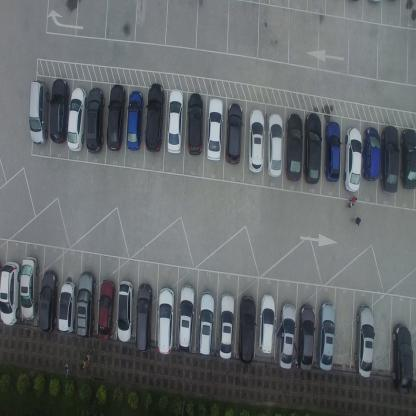car: (392, 323, 414, 396), (354, 304, 375, 379), (144, 82, 165, 153), (379, 125, 400, 194), (28, 78, 49, 146), (276, 301, 297, 369), (76, 270, 96, 340), (316, 302, 336, 372), (85, 87, 105, 155), (0, 259, 20, 326), (106, 84, 126, 151), (303, 112, 321, 186), (237, 294, 256, 364), (38, 268, 58, 334), (66, 86, 86, 152), (50, 78, 70, 144), (343, 127, 362, 194), (297, 304, 316, 371), (217, 291, 235, 361), (178, 284, 196, 354), (157, 287, 175, 357), (285, 113, 303, 182), (135, 283, 152, 355), (198, 291, 216, 358), (20, 254, 38, 321), (225, 102, 243, 166), (265, 112, 282, 179), (116, 280, 134, 343), (97, 278, 115, 341), (247, 108, 264, 174), (257, 292, 275, 354), (206, 97, 223, 162), (126, 91, 144, 152), (167, 86, 183, 154), (187, 90, 203, 157), (324, 119, 340, 184), (400, 127, 416, 190), (362, 127, 380, 182), (58, 279, 76, 333)
